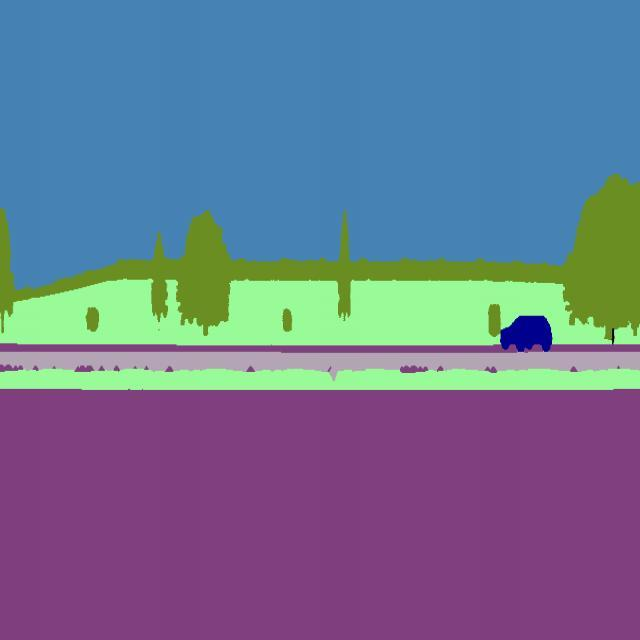safe: (493, 305, 561, 364)
